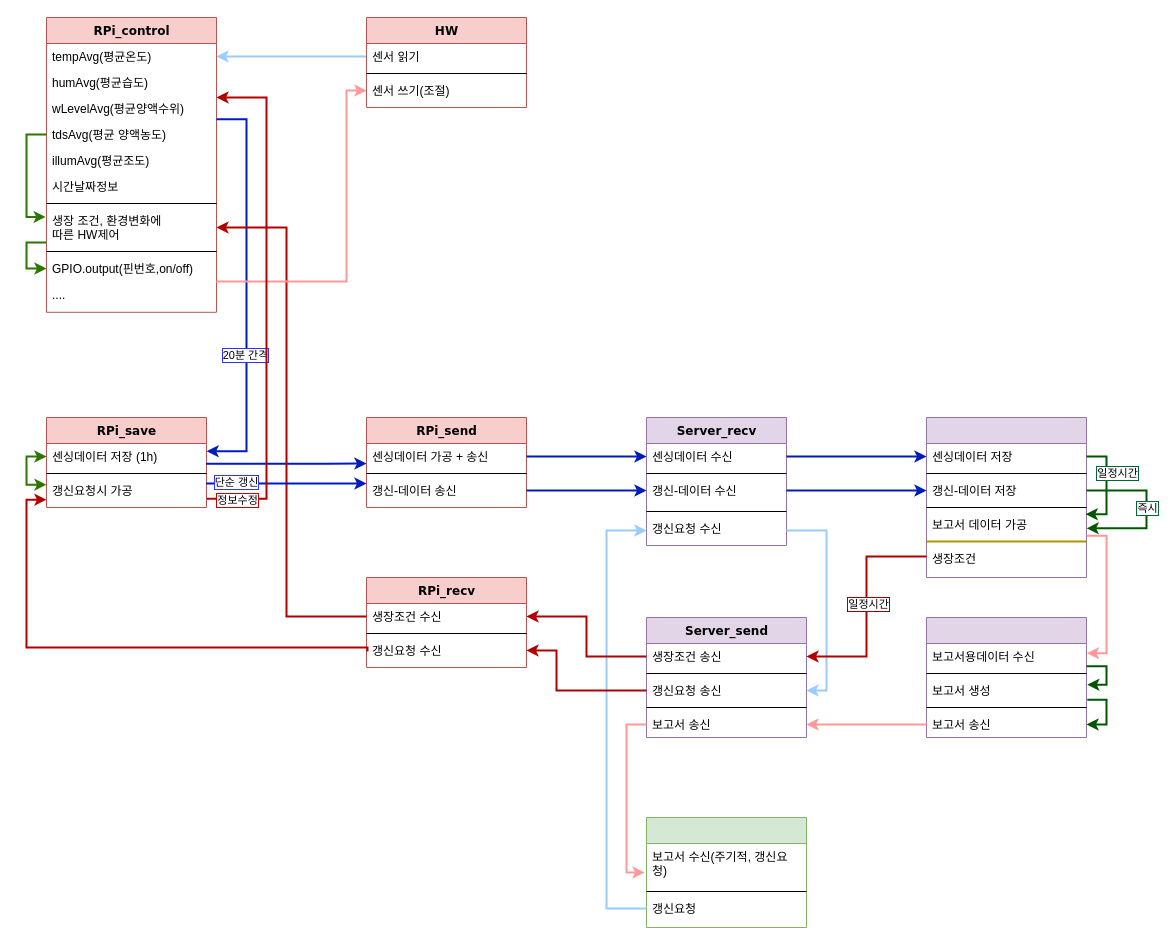
The diagram is 1175 pixels wide and 945 high, and some of its shapes have lost their labels. The box of each missing label's shape, as (x1, y1, x2, y2) in pixels:
Server_report: (926, 616, 1086, 738)
Server_save: (926, 416, 1086, 578)
User: (646, 816, 806, 928)
